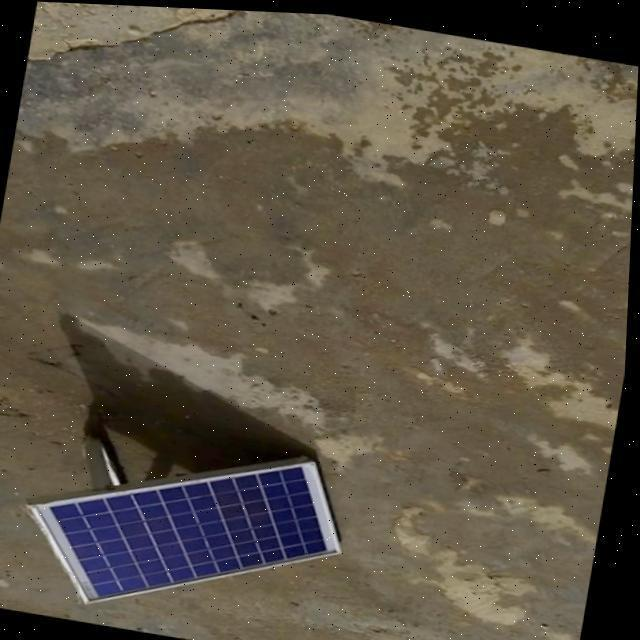Normal Solar Panel: (18, 413, 360, 640)
